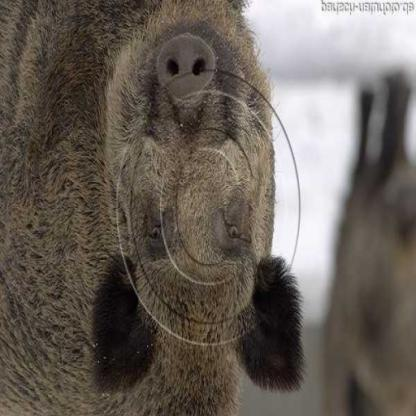boar: (11, 1, 287, 415)
